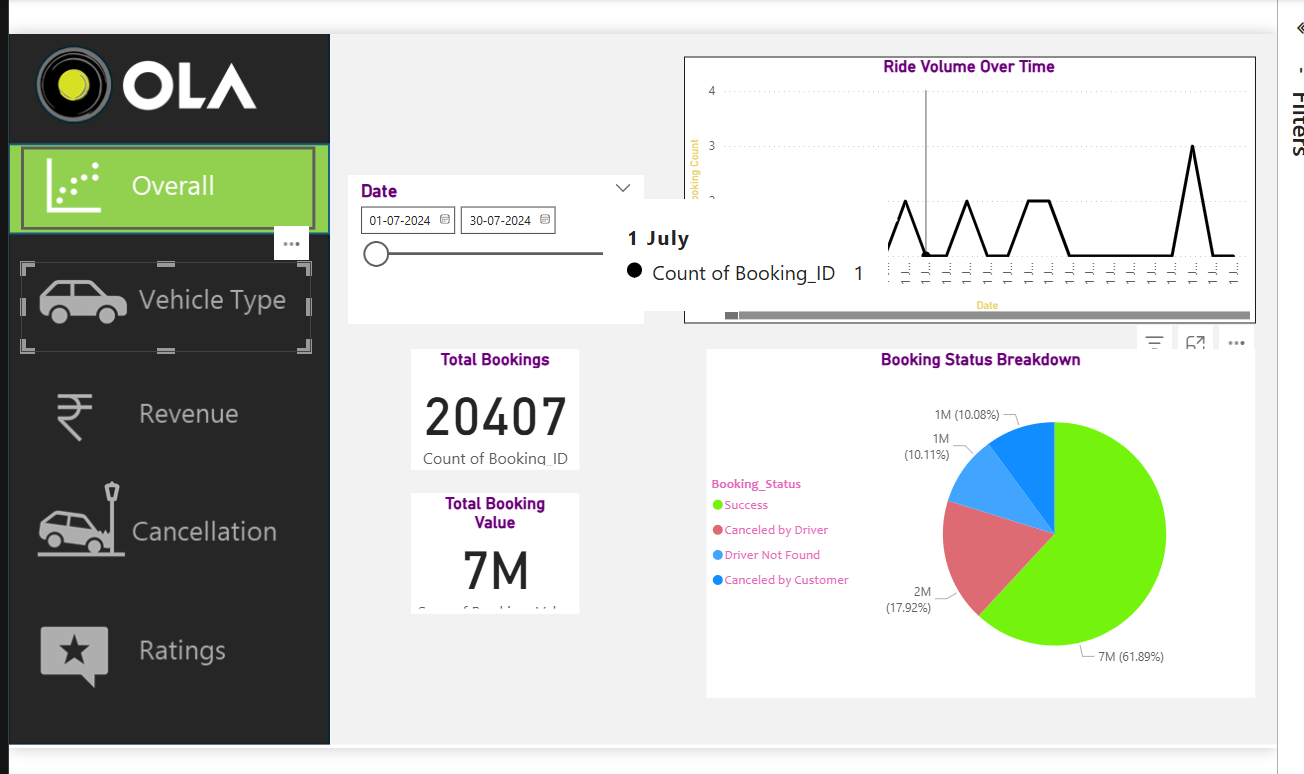

The dashboard page shown, as its layout file describes it:
{"tool":"powerbi","page":{"name":"Overall","canvas":[1280,720],"ordinal":0},"visuals":[{"type":"actionButton","box":[11.4,230,292.9,91.4],"z":0},{"type":"actionButton","box":[12.9,348.6,292.9,71.4],"z":1000},{"type":"actionButton","box":[11.4,440,305.7,108.6],"z":2000},{"type":"actionButton","box":[12.9,585.7,231.4,82.9],"z":3000},{"type":"actionButton","box":[11.4,114.3,297.1,84.3],"z":4000},{"type":"lineChart","title":"Ride Volume Over Time","fields":{"Y":["CountNonNull(Bookings.Booking_ID)"],"Category":["Bookings.Date"]},"box":[682,22,576,270],"z":5000},{"type":"pieChart","title":"Booking Status Breakdown","fields":{"Category":["Bookings.Booking_Status"],"Y":["Sum(Bookings.Booking_Value)"]},"box":[704,318,554,352],"z":6000},{"type":"slicer","fields":{"Values":["Bookings.Date"]},"box":[342,142,298,150],"z":7000},{"type":"card","title":"Total Bookings","fields":{"Values":["Count(Bookings.Booking_ID)"]},"box":[406,318,170,122],"z":8000},{"type":"card","title":"Total Booking Value","fields":{"Values":["Sum(Bookings.Booking_Value)"]},"box":[406,464,170,122],"z":9000}]}

Visuals, with their boxes on the page's 1280x720 design canvas (x1, y1, x2, y2). These are canvas units, not pixel positions in the 1304x774 screenshot, which may show the page scaled, cropped or inside an application window:
actionButton: 11/230/304/321
actionButton: 13/349/306/420
actionButton: 11/440/317/549
actionButton: 13/586/244/669
actionButton: 11/114/308/199
"Ride Volume Over Time" lineChart: 682/22/1258/292
"Booking Status Breakdown" pieChart: 704/318/1258/670
slicer - Bookings.Date: 342/142/640/292
"Total Bookings" card: 406/318/576/440
"Total Booking Value" card: 406/464/576/586
